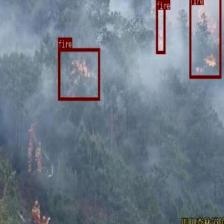fire: (189, 0, 221, 77), (57, 48, 100, 100), (155, 0, 165, 53)
